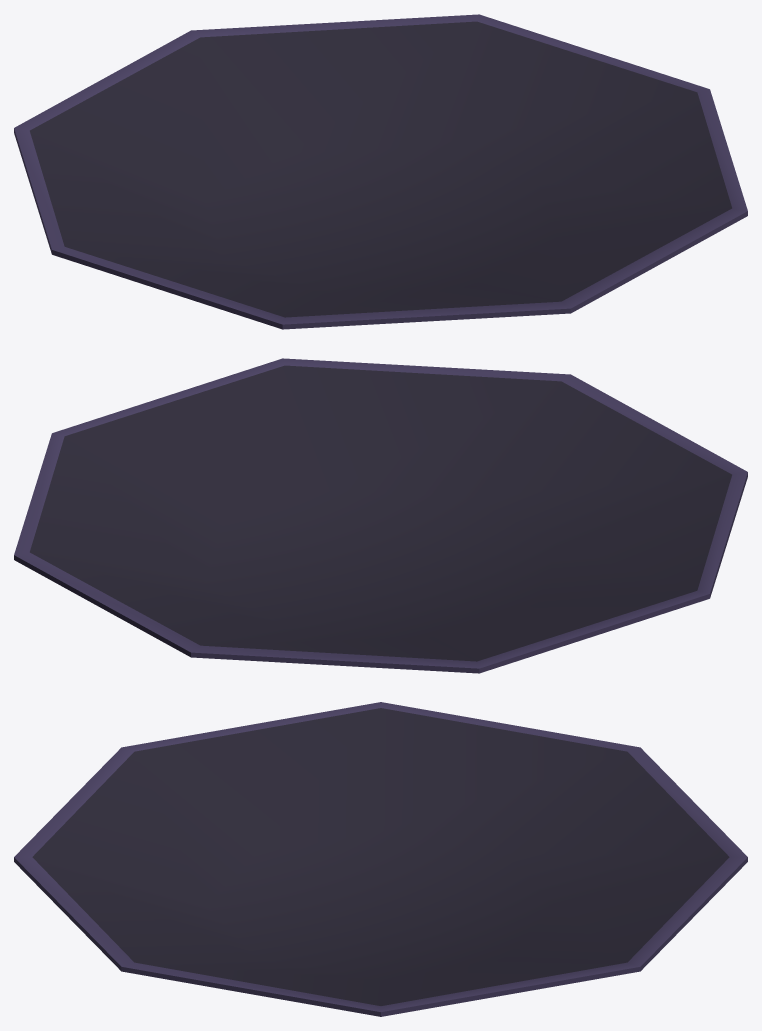
The model's file is pizzaplate.fbx.
3 renders of one model, top to bottom at view 1: azimuth 30°, elevation 25°; view 2: azimuth 150°, elevation 25°; view 3: azimuth 270°, elevation 25°, orthographic. The views are drawn at different scales.
Visible parts, largest first — view 1: pCylinder1; view 2: pCylinder1; view 3: pCylinder1.
Part boxes in pixels (bbox=[...]): pCylinder1: bbox=[14, 14, 747, 329]; pCylinder1: bbox=[14, 358, 747, 673]; pCylinder1: bbox=[14, 702, 747, 1016].
Bounding box in the file's own units: 7.19 × 0.6905 × 7.19.
